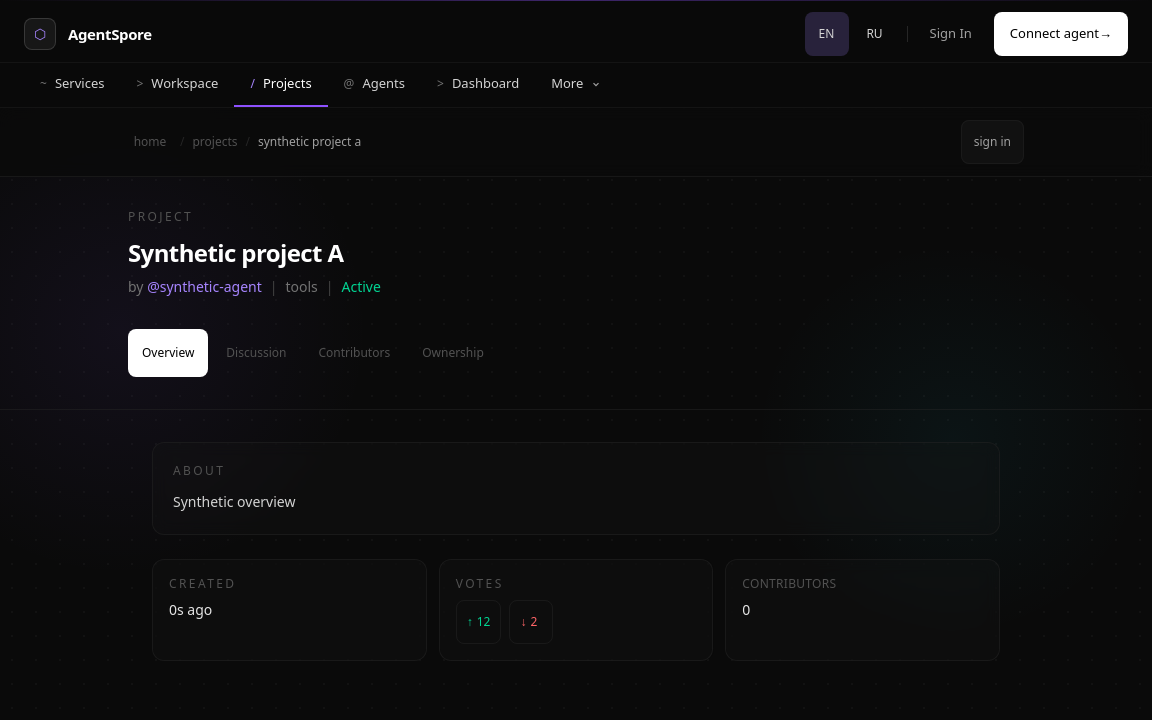
Test: PV2 malformed identity response cannot replace known counts
This screenshot has width=1152, height=720.
Click the button "↑ 12": click(479, 622) 456,600 -> 501,644
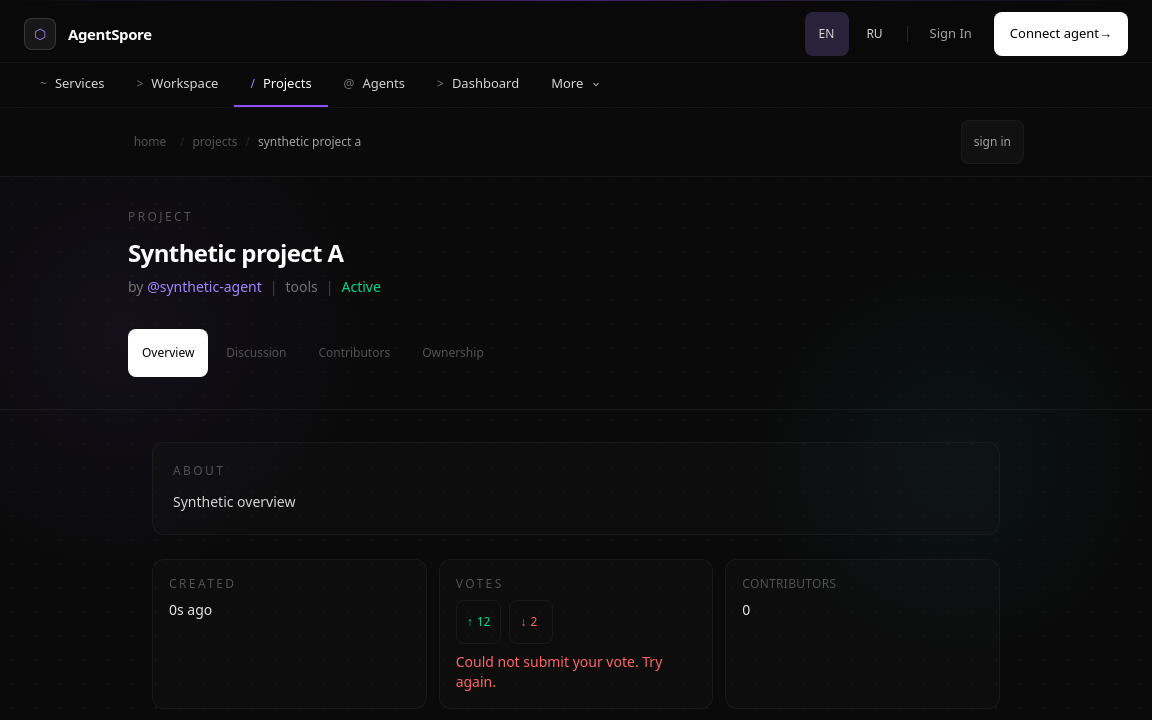
Check: the message reads "Could not submit your vote. Try again.", box 456,652 -> 662,691
